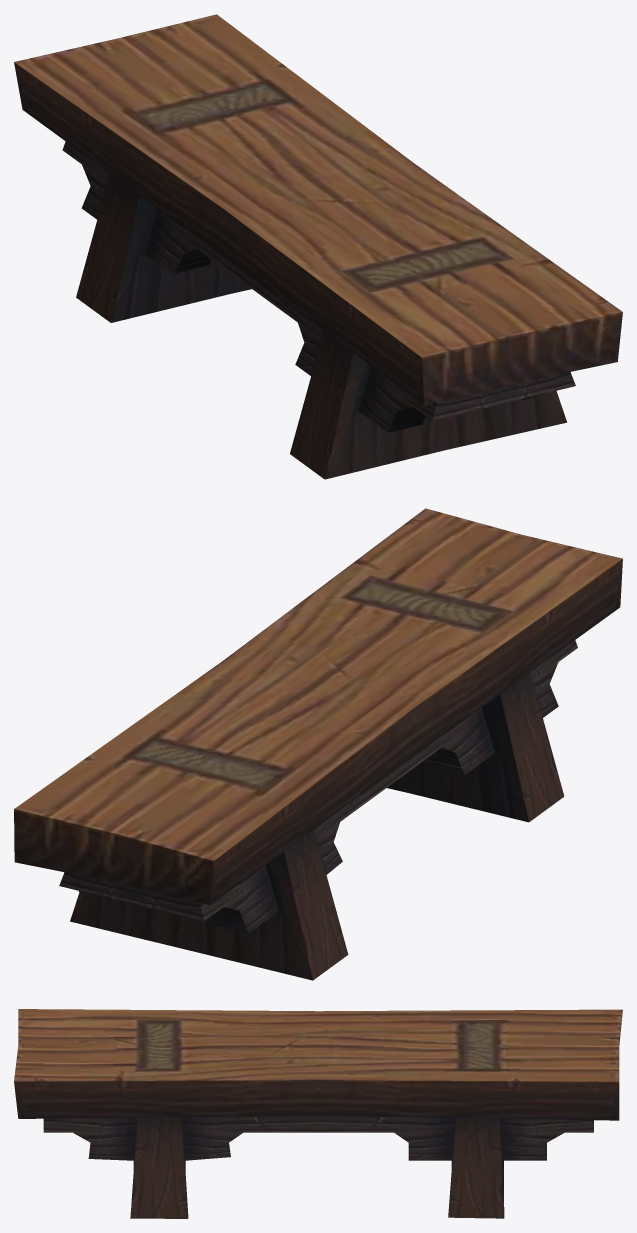
3 views of the same model, one above another, from view 1: azimuth 30°, elevation 25°; view 2: azimuth 150°, elevation 25°; view 3: azimuth 270°, elevation 25° (orthographic). The views are drawn at different scales.
Bounding box in the file's own units: 0.7198 × 0.4959 × 2.11.
1 material, 1 textured.
